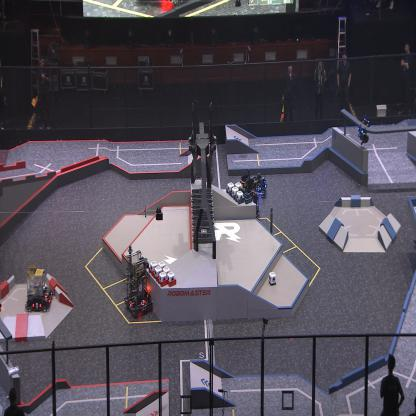car: (124, 250, 154, 320), (23, 263, 55, 313), (238, 168, 261, 219), (250, 172, 268, 198)
